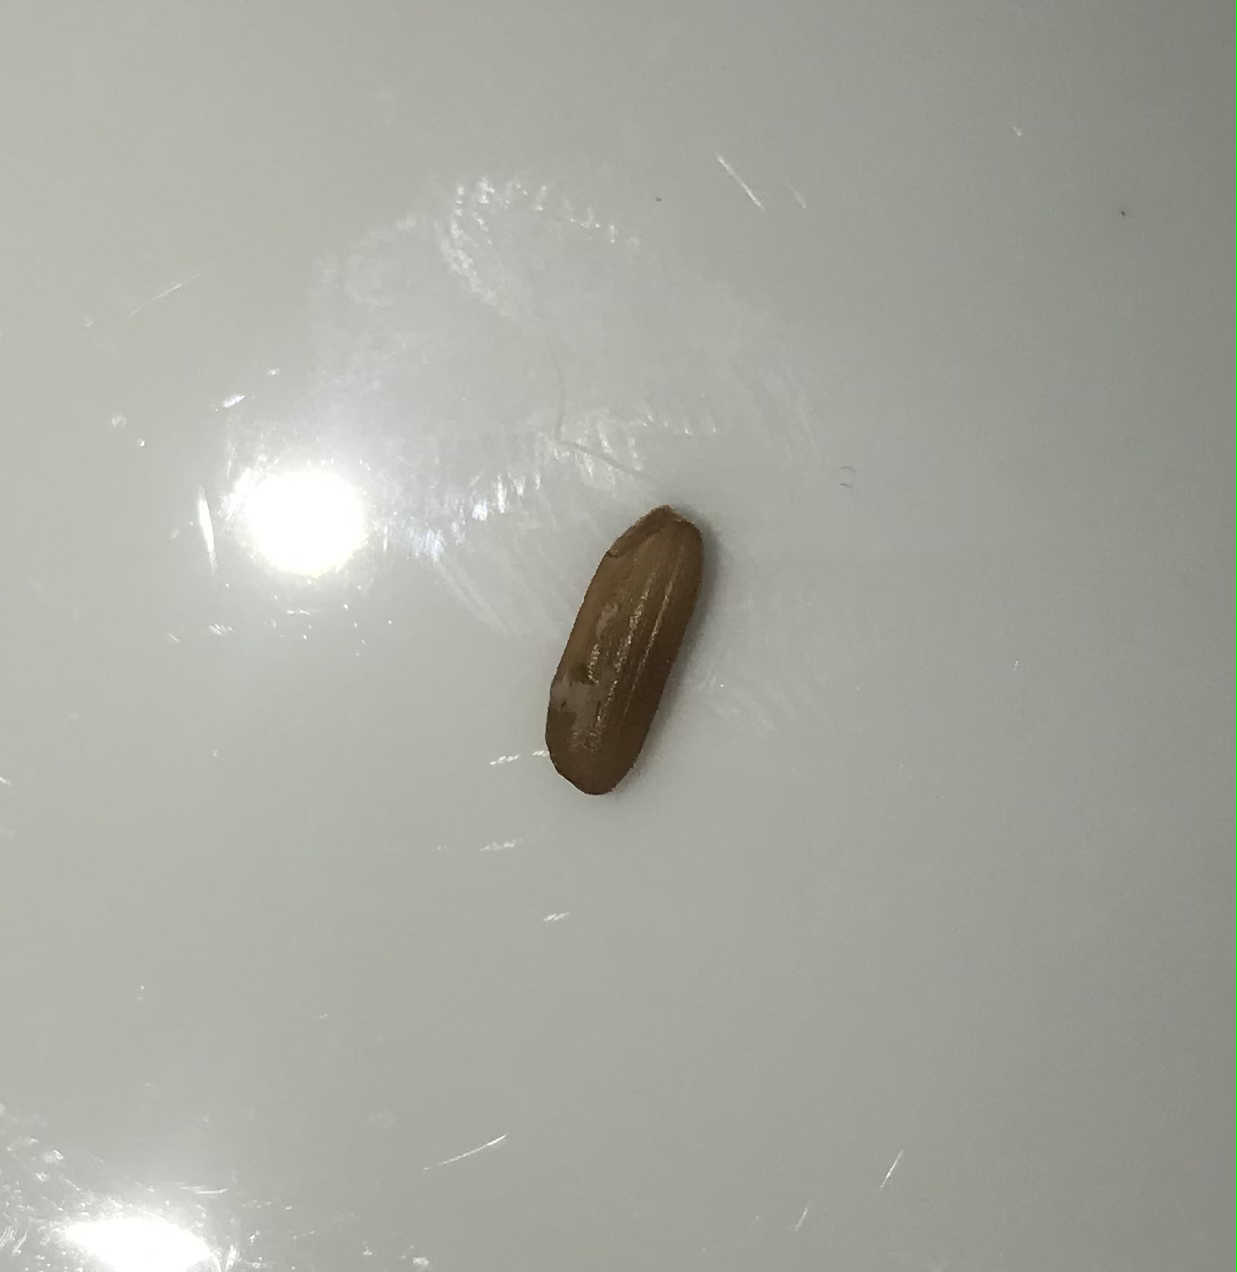Gao Lut Dien Bien: (527, 509, 716, 792)
